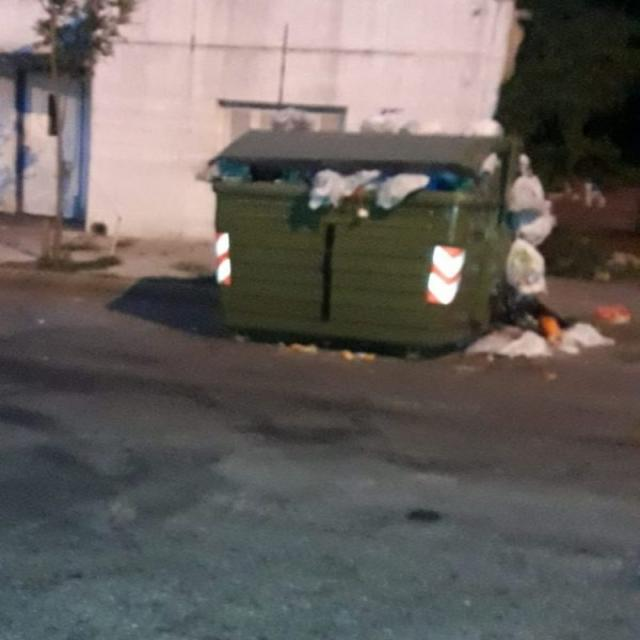garbage: (508, 159, 591, 355), (284, 164, 426, 214)
